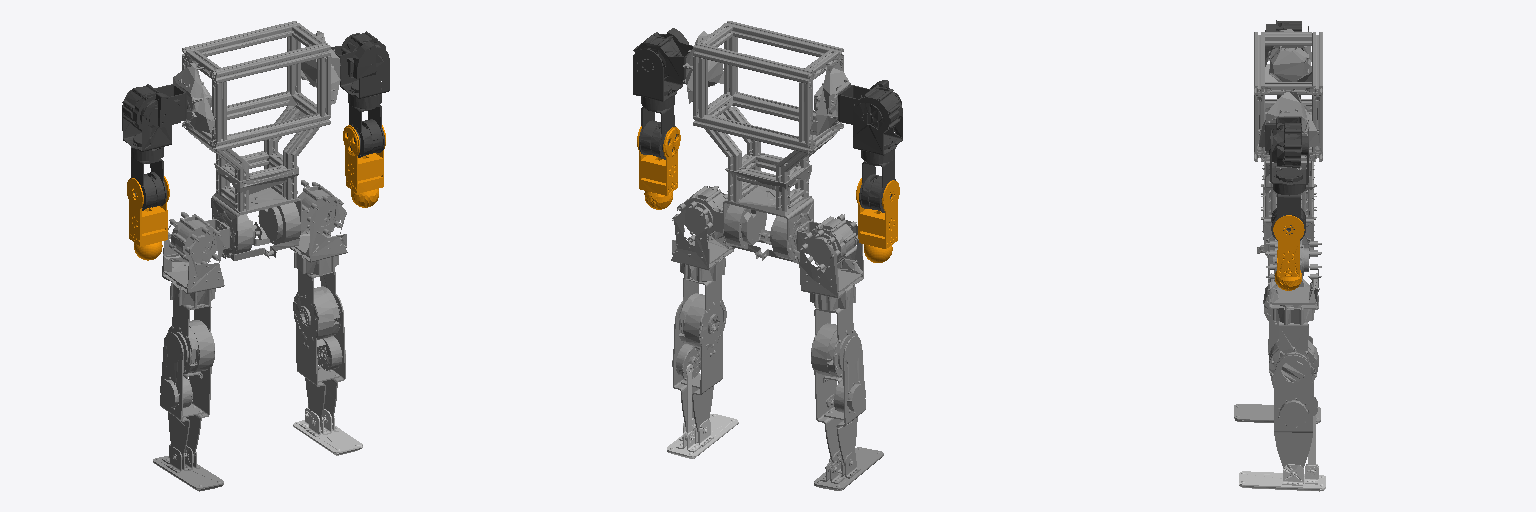
The robot description file, URDF, robot "full_body":
<?xml version="1.0" ?>
<!-- =================================================================================== -->
<!-- |    This document was autogenerated by xacro from humanoid_full_body_urdf/urdf/full_body.urdf.xacro | -->
<!-- |    EDITING THIS FILE BY HAND IS NOT RECOMMENDED                                 | -->
<!-- =================================================================================== -->
<!--
  Full-body humanoid, fixed base at torso_link. Source of truth for the URDF:
  CMake runs xacro on this file and installs the result as urdf/full_body.urdf.

  Frames: torso_link has +z up, +x to the robot's left, -y forward. At q = 0 the robot stands upright:
  legs straight, soles flat, arms hanging down (see README "Joint zero").

  Meshes: meshes/visual/<link>.stl is the link's CAD parts, each decimated (within 1-2 mm) and concatenated. meshes/collision/<link>.stl
  is one convex piece per part (box for screws, hull, or CoACD pieces for concave parts). Both are generated by scripts/simplify_meshes.py from cad_source/.
  Inertials come from the original CAD. Units: m, kg, kg*m^2, rad.
-->
<robot name="full_body">
  <material name="aluminum">
    <color rgba="0.62 0.62 0.62 1"/>
  </material>
  <material name="dark_grey">
    <color rgba="0.33 0.33 0.33 1"/>
  </material>
  <material name="light_grey">
    <color rgba="0.80 0.80 0.80 1"/>
  </material>
  <material name="orange">
    <color rgba="1.0 0.63 0.06 1"/>
  </material>
  <link name="torso_link">
    <inertial>
      <origin rpy="0 0 0" xyz="-3.33673e-06 1.67621e-07 0.18077"/>
      <mass value="9.00169"/>
      <inertia ixx="0.133271" ixy="3.91238e-05" ixz="2.75146e-06" iyy="0.23138" iyz="-1.64777e-06" izz="0.129094"/>
    </inertial>
    <visual>
      <geometry>
        <mesh filename="package://humanoid_full_body_description/meshes/visual/torso_link.stl"/>
      </geometry>
      <material name="aluminum"/>
    </visual>
    <collision>
      <geometry>
        <mesh filename="package://humanoid_full_body_description/meshes/collision/torso_link.stl"/>
      </geometry>
    </collision>
  </link>
  <link name="pelvis_link">
    <inertial>
      <origin rpy="0 0 0" xyz="0.0762997 -0.103633 0.54283"/>
      <mass value="3.52329"/>
      <inertia ixx="0.00733434" ixy="-0.000801202" ixz="-0.00142978" iyy="0.0170036" iyz="-0.000442447" izz="0.0164294"/>
    </inertial>
    <visual>
      <geometry>
        <mesh filename="package://humanoid_full_body_description/meshes/visual/pelvis_link.stl"/>
      </geometry>
      <material name="aluminum"/>
    </visual>
    <collision>
      <geometry>
        <mesh filename="package://humanoid_full_body_description/meshes/collision/pelvis_link.stl"/>
      </geometry>
    </collision>
  </link>
  <joint name="torso_to_pelvis" type="fixed">
    <parent link="torso_link"/>
    <child link="pelvis_link"/>
    <origin rpy="-2.66879765 -0.177967639 0.00628281114" xyz="-0.150094227 -0.340438733 0.346935879"/>
  </joint>
  <link name="left_base_link">
    <inertial>
      <origin rpy="0 0 0" xyz="-0.00467276 -0.0791327 0.000862798"/>
      <mass value="1.30369"/>
      <inertia ixx="0.00274206" ixy="0.000115059" ixz="3.778e-05" iyy="0.00155435" iyz="-1.35312e-06" izz="0.00262216"/>
    </inertial>
    <visual>
      <geometry>
        <mesh filename="package://humanoid_full_body_description/meshes/visual/left_base_link.stl"/>
      </geometry>
      <material name="dark_grey"/>
    </visual>
    <collision>
      <geometry>
        <mesh filename="package://humanoid_full_body_description/meshes/collision/left_base_link.stl"/>
      </geometry>
    </collision>
  </link>
  <link name="left_link_001">
    <inertial>
      <origin rpy="0 0 0" xyz="-0.0207453 0.000565026 -0.0591024"/>
      <mass value="0.733848"/>
      <inertia ixx="0.00184176" ixy="7.76198e-07" ixz="-0.000119616" iyy="0.00215905" iyz="1.65746e-05" izz="0.000986437"/>
    </inertial>
    <visual>
      <geometry>
        <mesh filename="package://humanoid_full_body_description/meshes/visual/left_link_001.stl"/>
      </geometry>
      <material name="dark_grey"/>
    </visual>
    <collision>
      <geometry>
        <mesh filename="package://humanoid_full_body_description/meshes/collision/left_link_001.stl"/>
      </geometry>
    </collision>
  </link>
  <link name="left_link_002">
    <inertial>
      <origin rpy="0 0 0" xyz="-3.06873e-05 5.05098e-06 0.00228391"/>
      <mass value="0.0237171"/>
      <inertia ixx="1.58729e-06" ixy="0" ixz="-1.97056e-08" iyy="1.58703e-06" iyz="3.24344e-09" izz="3.05362e-06"/>
    </inertial>
    <visual>
      <geometry>
        <mesh filename="package://humanoid_full_body_description/meshes/visual/left_link_002.stl"/>
      </geometry>
      <material name="dark_grey"/>
    </visual>
    <collision>
      <geometry>
        <mesh filename="package://humanoid_full_body_description/meshes/collision/left_link_002.stl"/>
      </geometry>
    </collision>
  </link>
  <link name="left_link_003">
    <inertial>
      <origin rpy="0 0 0" xyz="0.00131303 0.000269986 -0.0796064"/>
      <mass value="0.684092"/>
      <inertia ixx="0.000936754" ixy="-2.83656e-07" ixz="6.62993e-06" iyy="0.000967344" iyz="1.24085e-05" izz="0.000551426"/>
    </inertial>
    <visual>
      <geometry>
        <mesh filename="package://humanoid_full_body_description/meshes/visual/left_link_003.stl"/>
      </geometry>
      <material name="dark_grey"/>
    </visual>
    <collision>
      <geometry>
        <mesh filename="package://humanoid_full_body_description/meshes/collision/left_link_003.stl"/>
      </geometry>
    </collision>
  </link>
  <link name="left_link_004">
    <inertial>
      <origin rpy="0 0 0" xyz="0.00106618 0.032077 -0.0582626"/>
      <mass value="0.585745"/>
      <inertia ixx="0.00215704" ixy="4.18874e-07" ixz="2.63315e-05" iyy="0.00175378" iyz="3.09155e-06" izz="0.000749798"/>
    </inertial>
    <visual>
      <geometry>
        <mesh filename="package://humanoid_full_body_description/meshes/visual/left_link_004.stl"/>
      </geometry>
      <material name="orange"/>
    </visual>
    <collision>
      <geometry>
        <mesh filename="package://humanoid_full_body_description/meshes/collision/left_link_004.stl"/>
      </geometry>
    </collision>
  </link>
  <joint name="left_shoulder_abduction" type="continuous">
    <parent link="torso_link"/>
    <child link="left_base_link"/>
    <origin rpy="0.00221104723 0.0247092937 1.57074348" xyz="0.1972044 0 0.2922097"/>
    <axis xyz="5.28303544e-05 -0.999997551 0.00221235109"/>
  </joint>
  <joint name="left_joint_001_10" type="revolute">
    <parent link="left_base_link"/>
    <child link="left_link_001"/>
    <origin rpy="0 0 0" xyz="0.0266166538 -0.094309571 0.000566191355"/>
    <axis xyz="-0.999909744 -8.25207423e-05 -0.0134348988"/>
    <limit effort="0" lower="-0.261799388" upper="1.83259571" velocity="0"/>
  </joint>
  <joint name="left_joint_002_16" type="revolute">
    <parent link="left_link_001"/>
    <child link="left_link_002"/>
    <origin rpy="0 0 0" xyz="-0.0223931296 -0.000262979347 -0.118339241"/>
    <axis xyz="0.0134350484 -0.00221134321 -0.9999073"/>
    <limit effort="0" lower="-3.14159265" upper="3.14159265" velocity="0"/>
  </joint>
  <joint name="left_joint_003_45" type="continuous">
    <parent link="left_link_002"/>
    <child link="left_link_003"/>
    <origin rpy="0 0 0" xyz="6.71752421e-06 -1.10567161e-06 -0.00049995365"/>
    <axis xyz="0.0134350484 -0.00221134321 -0.9999073"/>
  </joint>
  <joint name="left_joint_004_52" type="continuous">
    <parent link="left_link_003"/>
    <child link="left_link_004"/>
    <origin rpy="0 0 0" xyz="0.00155821224 -0.0319538078 -0.0889827107"/>
    <axis xyz="0.00109990674 -0.999996917 0.00222632008"/>
  </joint>
  <link name="right_base_link">
    <inertial>
      <origin rpy="0 0 0" xyz="-0.00467276 0.0791327 0.000862798"/>
      <mass value="1.30369"/>
      <inertia ixx="0.00274206" ixy="-0.000115059" ixz="3.778e-05" iyy="0.00155435" iyz="1.35312e-06" izz="0.00262216"/>
    </inertial>
    <visual>
      <geometry>
        <mesh filename="package://humanoid_full_body_description/meshes/visual/right_base_link.stl"/>
      </geometry>
      <material name="dark_grey"/>
    </visual>
    <collision>
      <geometry>
        <mesh filename="package://humanoid_full_body_description/meshes/collision/right_base_link.stl"/>
      </geometry>
    </collision>
  </link>
  <link name="right_link_001">
    <inertial>
      <origin rpy="0 0 0" xyz="-0.0207453 -0.000565026 -0.0591024"/>
      <mass value="0.733848"/>
      <inertia ixx="0.00184176" ixy="-7.76198e-07" ixz="-0.000119616" iyy="0.00215905" iyz="-1.65746e-05" izz="0.000986437"/>
    </inertial>
    <visual>
      <geometry>
        <mesh filename="package://humanoid_full_body_description/meshes/visual/right_link_001.stl"/>
      </geometry>
      <material name="dark_grey"/>
    </visual>
    <collision>
      <geometry>
        <mesh filename="package://humanoid_full_body_description/meshes/collision/right_link_001.stl"/>
      </geometry>
    </collision>
  </link>
  <link name="right_link_002">
    <inertial>
      <origin rpy="0 0 0" xyz="-3.06873e-05 -5.05098e-06 0.00228391"/>
      <mass value="0.0237171"/>
      <inertia ixx="1.58729e-06" ixy="0" ixz="-1.97056e-08" iyy="1.58703e-06" iyz="-3.24344e-09" izz="3.05362e-06"/>
    </inertial>
    <visual>
      <geometry>
        <mesh filename="package://humanoid_full_body_description/meshes/visual/right_link_002.stl"/>
      </geometry>
      <material name="dark_grey"/>
    </visual>
    <collision>
      <geometry>
        <mesh filename="package://humanoid_full_body_description/meshes/collision/right_link_002.stl"/>
      </geometry>
    </collision>
  </link>
  <link name="right_link_003">
    <inertial>
      <origin rpy="0 0 0" xyz="0.00131303 -0.000269986 -0.0796064"/>
      <mass value="0.684092"/>
      <inertia ixx="0.000936754" ixy="2.83656e-07" ixz="6.62993e-06" iyy="0.000967344" iyz="-1.24085e-05" izz="0.000551426"/>
    </inertial>
    <visual>
      <geometry>
        <mesh filename="package://humanoid_full_body_description/meshes/visual/right_link_003.stl"/>
      </geometry>
      <material name="dark_grey"/>
    </visual>
    <collision>
      <geometry>
        <mesh filename="package://humanoid_full_body_description/meshes/collision/right_link_003.stl"/>
      </geometry>
    </collision>
  </link>
  <link name="right_link_004">
    <inertial>
      <origin rpy="0 0 0" xyz="0.00106618 -0.032077 -0.0582626"/>
      <mass value="0.585745"/>
      <inertia ixx="0.00215704" ixy="-4.18874e-07" ixz="2.63315e-05" iyy="0.00175378" iyz="-3.09155e-06" izz="0.000749798"/>
    </inertial>
    <visual>
      <geometry>
        <mesh filename="package://humanoid_full_body_description/meshes/visual/right_link_004.stl"/>
      </geometry>
      <material name="orange"/>
    </visual>
    <collision>
      <geometry>
        <mesh filename="package://humanoid_full_body_description/meshes/collision/right_link_004.stl"/>
      </geometry>
    </collision>
  </link>
  <joint name="right_shoulder_abduction" type="continuous">
    <parent link="torso_link"/>
    <child link="right_base_link"/>
    <origin rpy="-0.00221104723 0.0247092937 1.57084917" xyz="-0.19722 0 0.2922097"/>
    <axis xyz="-5.28303544e-05 -0.999997551 -0.00221235109"/>
  </joint>
  <joint name="right_joint_001_10" type="revolute">
    <parent link="right_base_link"/>
    <child link="right_link_001"/>
    <origin rpy="0 0 0" xyz="0.0266166538 0.094309571 0.000566191355"/>
    <axis xyz="0.999909744 -8.25207423e-05 0.0134348988"/>
    <limit effort="0" lower="-0.261799388" upper="1.83259571" velocity="0"/>
  </joint>
  <joint name="right_joint_002_16" type="revolute">
    <parent link="right_link_001"/>
    <child link="right_link_002"/>
    <origin rpy="0 0 0" xyz="-0.0223931296 0.000262979347 -0.118339241"/>
    <axis xyz="-0.0134350484 -0.00221134321 0.9999073"/>
    <limit effort="0" lower="-3.14159265" upper="3.14159265" velocity="0"/>
  </joint>
  <joint name="right_joint_003_45" type="continuous">
    <parent link="right_link_002"/>
    <child link="right_link_003"/>
    <origin rpy="0 0 0" xyz="6.71752421e-06 1.10567161e-06 -0.00049995365"/>
    <axis xyz="-0.0134350484 -0.00221134321 0.9999073"/>
  </joint>
  <joint name="right_joint_004_52" type="continuous">
    <parent link="right_link_003"/>
    <child link="right_link_004"/>
    <origin rpy="0 0 0" xyz="0.00155821224 0.0319538078 -0.0889827107"/>
    <axis xyz="-0.00109990674 -0.999996917 -0.00222632008"/>
  </joint>
  <link name="left_pelvis_hip_connector_link">
    <inertial>
      <origin rpy="0 0 0" xyz="0.0723796 0.00633066 0.0114876"/>
      <mass value="1.1951"/>
      <inertia ixx="0.00111526" ixy="-4.36942e-05" ixz="-5.58966e-05" iyy="0.0016302" iyz="-2.64521e-05" izz="0.00147137"/>
    </inertial>
    <visual>
      <geometry>
        <mesh filename="package://humanoid_full_body_description/meshes/visual/left_pelvis_hip_connector_link.stl"/>
      </geometry>
      <material name="aluminum"/>
    </visual>
    <collision>
      <geometry>
        <mesh filename="package://humanoid_full_body_description/meshes/collision/left_pelvis_hip_connector_link.stl"/>
      </geometry>
    </collision>
  </link>
  <link name="left_hip_link">
    <inertial>
      <origin rpy="0 0 0" xyz="0.0186449 -0.0473243 -0.084222"/>
      <mass value="1.70614"/>
      <inertia ixx="0.00616266" ixy="0.000113173" ixz="0.000470104" iyy="0.00512474" iyz="-7.10545e-05" izz="0.00354562"/>
    </inertial>
    <visual>
      <geometry>
        <mesh filename="package://humanoid_full_body_description/meshes/visual/left_hip_link.stl"/>
      </geometry>
      <material name="aluminum"/>
    </visual>
    <collision>
      <geometry>
        <mesh filename="package://humanoid_full_body_description/meshes/collision/left_hip_link.stl"/>
      </geometry>
    </collision>
  </link>
  <link name="left_thigh_link">
    <inertial>
      <origin rpy="0 0 0" xyz="0.0190879 -0.0133638 -0.108895"/>
      <mass value="1.88724"/>
      <inertia ixx="0.00413859" ixy="-0.00032446" ixz="0.000394036" iyy="0.00367899" iyz="-0.000248043" izz="0.00224382"/>
    </inertial>
    <visual>
      <geometry>
        <mesh filename="package://humanoid_full_body_description/meshes/visual/left_thigh_link.stl"/>
      </geometry>
      <material name="aluminum"/>
    </visual>
    <collision>
      <geometry>
        <mesh filename="package://humanoid_full_body_description/meshes/collision/left_thigh_link.stl"/>
      </geometry>
    </collision>
  </link>
  <link name="left_shank_link">
    <inertial>
      <origin rpy="0 0 0" xyz="-0.0348549 -0.0468275 -0.107714"/>
      <mass value="1.02324"/>
      <inertia ixx="0.0046623" ixy="-2.54876e-05" ixz="-0.000200659" iyy="0.00371896" iyz="-0.00152528" izz="0.00230065"/>
    </inertial>
    <visual>
      <geometry>
        <mesh filename="package://humanoid_full_body_description/meshes/visual/left_shank_link.stl"/>
      </geometry>
      <material name="aluminum"/>
    </visual>
    <collision>
      <geometry>
        <mesh filename="package://humanoid_full_body_description/meshes/collision/left_shank_link.stl"/>
      </geometry>
    </collision>
  </link>
  <link name="left_foot_link">
    <inertial>
      <origin rpy="0 0 0" xyz="-0.0172632 -0.012309 -0.0206316"/>
      <mass value="0.574351"/>
      <inertia ixx="0.00139239" ixy="-0.000547602" ixz="0.000269881" iyy="0.000912113" iyz="0.000439213" izz="0.00161229"/>
    </inertial>
    <visual>
      <geometry>
        <mesh filename="package://humanoid_full_body_description/meshes/visual/left_foot_link.stl"/>
      </geometry>
      <material name="light_grey"/>
    </visual>
    <collision>
      <geometry>
        <mesh filename="package://humanoid_full_body_description/meshes/collision/left_foot_link.stl"/>
      </geometry>
    </collision>
  </link>
  <joint name="left_pelvis_hip_connector_joint" type="continuous">
    <parent link="pelvis_link"/>
    <child link="left_pelvis_hip_connector_link"/>
    <origin rpy="2.76113083 -0.269845023 0.226998553" xyz="0.162071443 -0.0953412766 0.557905363"/>
    <axis xyz="-0.984186863 -0.0862037448 -0.154742152"/>
  </joint>
  <joint name="left_hip_joint" type="continuous">
    <parent link="left_pelvis_hip_connector_link"/>
    <child link="left_hip_link"/>
    <origin rpy="4.23737092e-05 -0.000640310371 8.70081734e-05" xyz="0.0737048714 0.0550664328 0.00563550961"/>
    <axis xyz="-0.0654764958 0.988764442 -0.134378968"/>
  </joint>
  <joint name="left_thigh_joint" type="continuous">
    <parent link="left_hip_link"/>
    <child link="left_thigh_link"/>
    <origin rpy="-0.0776151432 0.0924315186 0.551502114" xyz="0.0295594845 -0.0547547636 -0.14407719"/>
    <axis xyz="0.178036925 -0.120931244 -0.976564636"/>
  </joint>
  <joint name="left_shank_joint" type="continuous">
    <parent link="left_thigh_link"/>
    <child link="left_shank_link"/>
    <origin rpy="0.437557176 -0.257361005 0.0553440268" xyz="0.0619897282 -0.0366673728 -0.105889876"/>
    <axis xyz="-0.857488443 0.467770139 -0.214253745"/>
  </joint>
  <joint name="left_foot_joint" type="continuous">
    <parent link="left_shank_link"/>
    <child link="left_foot_link"/>
    <origin rpy="-0.0865500603 0.0459238764 -0.0234921337" xyz="-0.0449392869 -0.135544469 -0.236190673"/>
    <axis xyz="0.857488443 -0.467770139 0.214253745"/>
  </joint>
  <link name="right_pelvis_hip_connector_link">
    <inertial>
      <origin rpy="0 0 0" xyz="-0.0718408 -0.00636457 -0.0112483"/>
      <mass value="1.19906"/>
      <inertia ixx="0.00111705" ixy="-2.63053e-05" ixz="-6.12627e-05" iyy="0.00160606" iyz="-7.39441e-05" izz="0.00151158"/>
    </inertial>
    <visual>
      <geometry>
        <mesh filename="package://humanoid_full_body_description/meshes/visual/right_pelvis_hip_connector_link.stl"/>
      </geometry>
      <material name="aluminum"/>
    </visual>
    <collision>
      <geometry>
        <mesh filename="package://humanoid_full_body_description/meshes/collision/right_pelvis_hip_connector_link.stl"/>
      </geometry>
    </collision>
  </link>
  <link name="right_hip_link">
    <inertial>
      <origin rpy="0 0 0" xyz="1.61803e-06 -0.0122267 -0.0973212"/>
      <mass value="1.70615"/>
      <inertia ixx="0.00629064" ixy="5.12511e-08" ixz="1.05532e-07" iyy="0.00484818" iyz="-0.000645262" izz="0.00377303"/>
    </inertial>
    <visual>
      <geometry>
        <mesh filename="package://humanoid_full_body_description/meshes/visual/right_hip_link.stl"/>
      </geometry>
      <material name="aluminum"/>
    </visual>
    <collision>
      <geometry>
        <mesh filename="package://humanoid_full_body_description/meshes/collision/right_hip_link.stl"/>
      </geometry>
    </collision>
  </link>
  <link name="right_thigh_link">
    <inertial>
      <origin rpy="0 0 0" xyz="0.00071249 -0.0541604 -0.0977563"/>
      <mass value="1.87557"/>
      <inertia ixx="0.00431864" ixy="1.322e-05" ixz="1.67633e-06" iyy="0.00312282" iyz="-0.000550819" izz="0.00243267"/>
    </inertial>
    <visual>
      <geometry>
        <mesh filename="package://humanoid_full_body_description/meshes/visual/right_thigh_link.stl"/>
      </geometry>
      <material name="aluminum"/>
    </visual>
    <collision>
      <geometry>
        <mesh filename="package://humanoid_full_body_description/meshes/collision/right_thigh_link.stl"/>
      </geometry>
    </collision>
  </link>
  <link name="right_shank_link">
    <inertial>
      <origin rpy="0 0 0" xyz="0.0309799 0.00264944 -0.118363"/>
      <mass value="1.00899"/>
      <inertia ixx="0.00460144" ixy="-2.06611e-05" ixz="-9.19348e-05" iyy="0.00476998" iyz="8.2796e-05" izz="0.00130264"/>
    </inertial>
    <visual>
      <geometry>
        <mesh filename="package://humanoid_full_body_description/meshes/visual/right_shank_link.stl"/>
      </geometry>
      <material name="aluminum"/>
    </visual>
    <collision>
      <geometry>
        <mesh filename="package://humanoid_full_body_description/meshes/collision/right_shank_link.stl"/>
      </geometry>
    </collision>
  </link>
  <link name="right_foot_link">
    <inertial>
      <origin rpy="0 0 0" xyz="-0.012229 -0.0113595 -0.0248806"/>
      <mass value="0.569755"/>
      <inertia ixx="0.00175725" ixy="-1.91761e-05" ixz="-5.71493e-06" iyy="0.000354471" iyz="-0.000150987" izz="0.00181707"/>
    </inertial>
    <visual>
      <geometry>
        <mesh filename="package://humanoid_full_body_description/meshes/visual/right_foot_link.stl"/>
      </geometry>
      <material name="aluminum"/>
    </visual>
    <collision>
      <geometry>
        <mesh filename="package://humanoid_full_body_description/meshes/collision/right_foot_link.stl"/>
      </geometry>
    </collision>
  </link>
  <joint name="right_pelvis_hip_connector_joint" type="continuous">
    <parent link="pelvis_link"/>
    <child link="right_pelvis_hip_connector_link"/>
    <origin rpy="-3.13456088 -0.312485816 0.173623974" xyz="-0.00969672135 -0.110386244 0.530898525"/>
    <axis xyz="0.984186863 0.0862037448 0.154742152"/>
  </joint>
  <joint name="right_hip_joint" type="continuous">
    <parent link="right_pelvis_hip_connector_link"/>
    <child link="right_hip_link"/>
    <origin rpy="-0.00394139381 -0.118540604 0.0663964245" xyz="-0.0769224211 -0.038811057 0.00577311957"/>
    <axis xyz="0 0.873591353 -0.486660197"/>
  </joint>
  <joint name="right_thigh_joint" type="continuous">
    <parent link="right_hip_link"/>
    <child link="right_thigh_link"/>
    <origin rpy="5.61636194e-05 0.00791014937 0.0142000815" xyz="2.36742928e-06 -0.0421839172 -0.151164152"/>
    <axis xyz="0 -0.486660197 -0.873591353"/>
  </joint>
  <joint name="right_shank_joint" type="continuous">
    <parent link="right_thigh_link"/>
    <child link="right_shank_link"/>
    <origin rpy="-0.510161448 0 0" xyz="-0.0476200751 -0.0578377746 -0.103860526"/>
    <axis xyz="-1 0 0"/>
  </joint>
  <joint name="right_foot_joint" type="continuous">
    <parent link="right_shank_link"/>
    <child link="right_foot_link"/>
    <origin rpy="-0.043064997 0 0" xyz="0.0519680999 0.000540779603 -0.274801069"/>
    <axis xyz="1 0 0"/>
  </joint>
</robot>

--- Render facts (derived) ---
The picture shows the robot from 3 angles, left to right: view 1: azimuth 30°, elevation 25°; view 2: azimuth 150°, elevation 25°; view 3: azimuth 270°, elevation 25°; orthographic projection.
Robot: full_body — 22 links, 21 joints (4 revolute, 16 continuous, 1 fixed); root link torso_link; default pose: every joint at zero.
Links seen in each view (by area): view 1: torso_link, right_shank_link, pelvis_link, left_shank_link, right_hip_link, left_hip_link, right_thigh_link, left_thigh_link, right_link_004, left_link_004, right_base_link, right_link_001 (+8 smaller); view 2: torso_link, right_shank_link, pelvis_link, left_shank_link, right_hip_link, left_hip_link, right_thigh_link, right_link_004, left_thigh_link, left_link_004, right_link_001, left_link_001 (+8 smaller); view 3: torso_link, left_shank_link, left_hip_link, left_foot_link, left_thigh_link, left_link_004, left_base_link, left_link_001, right_foot_link, left_link_003, pelvis_link.
Boxes of the visible links, x1,y1,x2,y2 form: torso_link: [173, 21, 340, 213]; right_shank_link: [160, 332, 211, 459]; pelvis_link: [211, 195, 301, 260]; left_shank_link: [296, 294, 345, 424]; right_hip_link: [162, 212, 225, 307]; left_hip_link: [290, 180, 347, 275]; right_thigh_link: [167, 301, 214, 373]; left_thigh_link: [293, 269, 340, 341]; right_link_004: [127, 176, 169, 260]; left_link_004: [343, 125, 385, 207]; right_base_link: [122, 84, 187, 131]; right_link_001: [122, 87, 171, 160]; torso_link: [683, 21, 850, 216]; right_shank_link: [814, 336, 865, 462]; pelvis_link: [723, 192, 813, 263]; left_shank_link: [672, 301, 722, 431]; right_hip_link: [799, 214, 863, 310]; left_hip_link: [671, 186, 734, 281]; right_thigh_link: [811, 304, 859, 378]; right_link_004: [856, 178, 899, 262]; left_thigh_link: [678, 276, 726, 349]; left_link_004: [637, 126, 680, 209]; right_link_001: [853, 88, 902, 163]; left_link_001: [633, 34, 682, 109]; torso_link: [1254, 29, 1322, 218]; left_shank_link: [1274, 355, 1317, 467]; left_hip_link: [1266, 241, 1321, 324]; left_foot_link: [1239, 415, 1325, 491]; left_thigh_link: [1269, 321, 1318, 382]; left_link_004: [1273, 215, 1304, 290]; left_base_link: [1265, 117, 1301, 167]; left_link_001: [1270, 129, 1308, 195]; right_foot_link: [1234, 404, 1320, 423]; left_link_003: [1271, 193, 1305, 240]; pelvis_link: [1257, 200, 1313, 263].
Bounding box of the posed robot: 0.6836 × 0.2229 × 1.05 m (x, y, z).
Meshes: 22 distinct files referenced, 22 mesh visuals loaded (22 binary STL).
